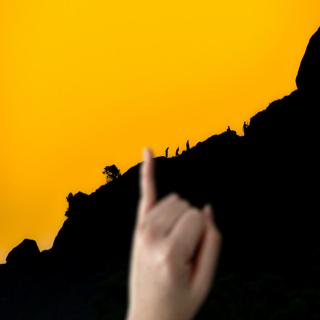Fine: (114, 142, 228, 316)
